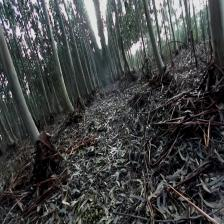trunk: (0, 25, 40, 150), (44, 16, 74, 116), (143, 3, 164, 73)
